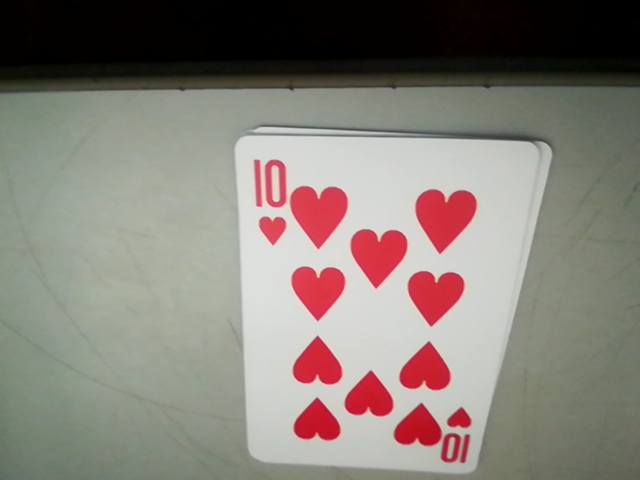hx 10: (250, 155, 291, 248), (440, 399, 474, 470)
